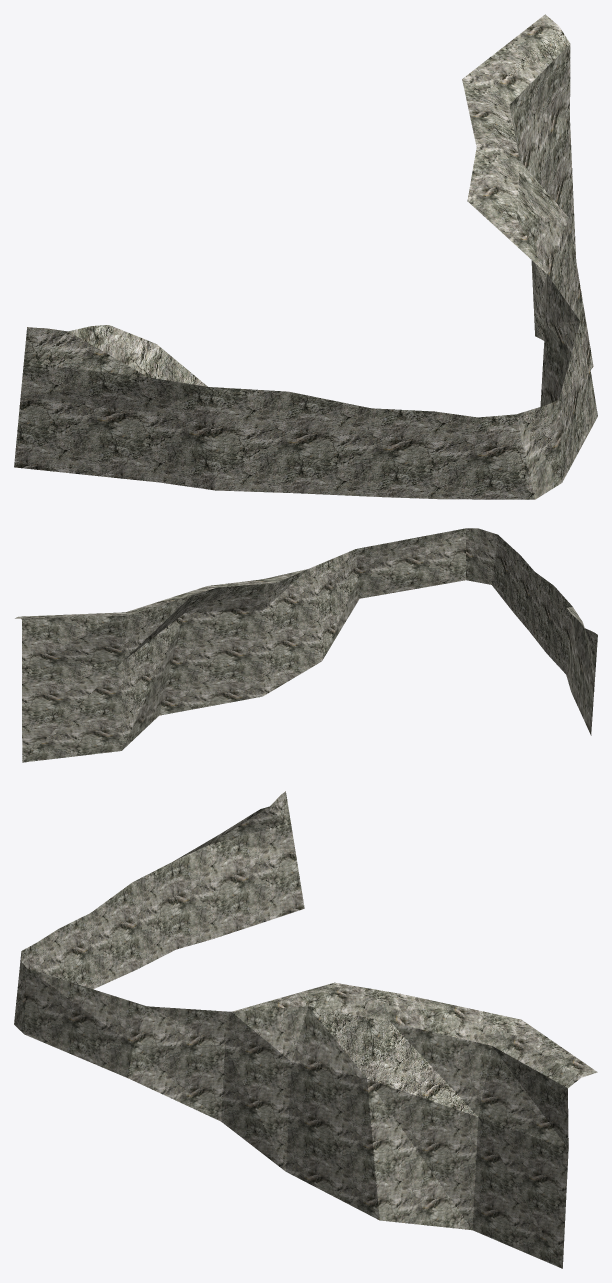
The model's file is cunteground34aa.obj.
The picture shows the model from 3 angles, top to bottom: view 1: azimuth 30°, elevation 25°; view 2: azimuth 150°, elevation 25°; view 3: azimuth 270°, elevation 25°; orthographic projection. The views are drawn at different scales.
Parts seen in each view (by area): view 1: cuntEground34aA; view 2: cuntEground34aA; view 3: cuntEground34aA.
Boxes of the visible parts, bbox=[...] form: cuntEground34aA: bbox=[14, 14, 597, 499]; cuntEground34aA: bbox=[15, 528, 597, 762]; cuntEground34aA: bbox=[14, 791, 597, 1268].
Bounding box in the file's own units: 226 × 74.44 × 198.
